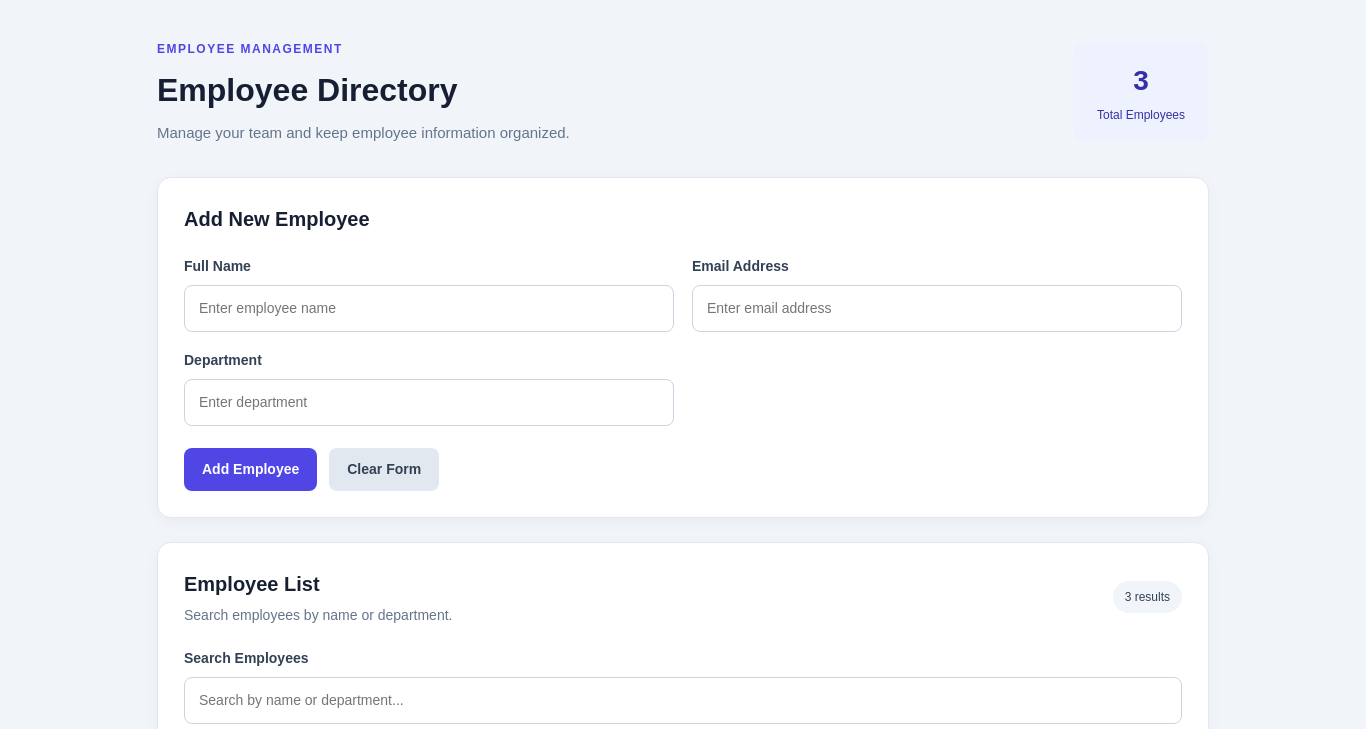
Employee Management Application › shows validation errors when the form is empty
Click the button "Add Employee".
click(251, 469)  # box x1=184 y1=448 x2=317 y2=490
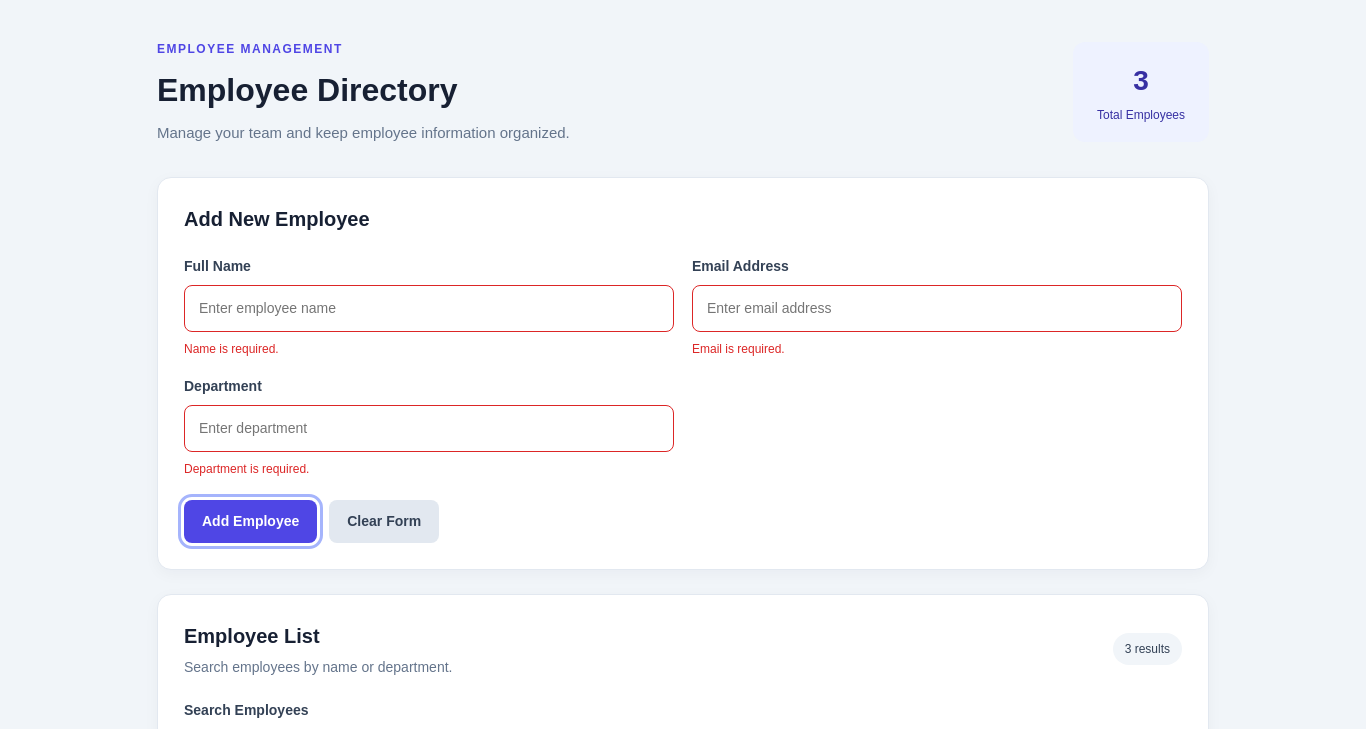
Now the text "Name is required." is shown, box x1=184 y1=342 x2=279 y2=356
Now the text "Email is required." is shown, box x1=692 y1=342 x2=785 y2=356
Now the text "Department is required." is shown, box x1=184 y1=462 x2=309 y2=476
